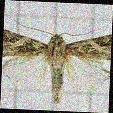Spodoptera litura: (2, 21, 111, 105)
